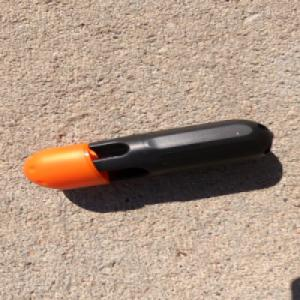PlasticPart: (20, 118, 274, 190)
